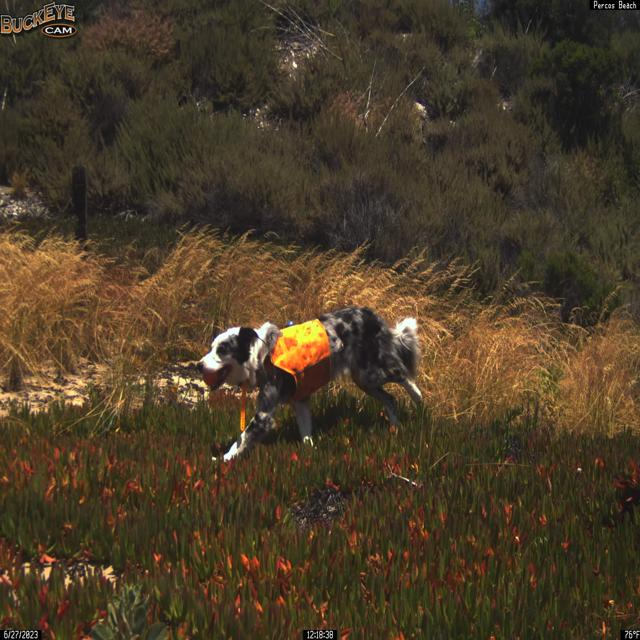dog: (196, 304, 425, 464)
